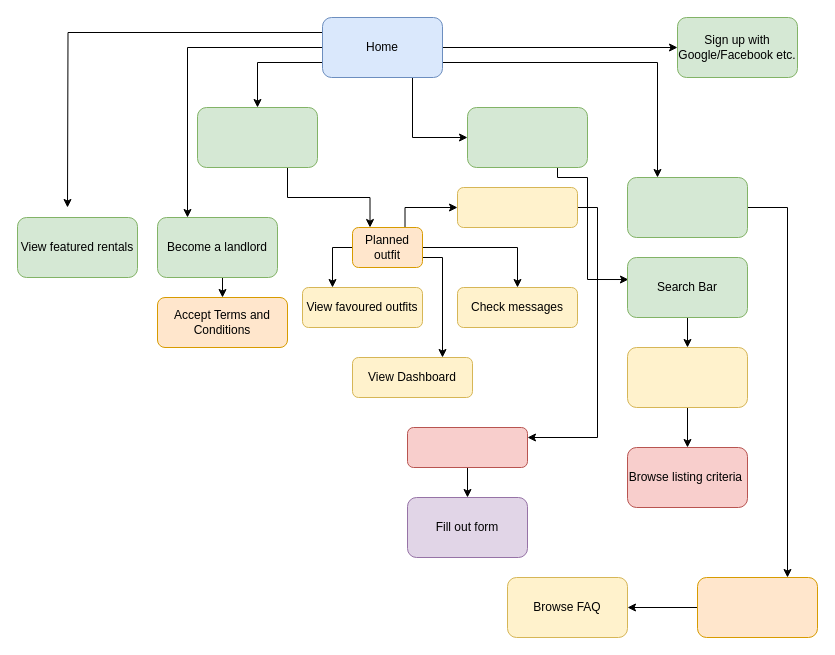
Image size: 835x655. Some labels were removed from this diagram. Here are the shapes that lost their labels. From the top down, the centre of each, then its label:
At pixel 257 137: "Login".
At pixel 527 137: "Where to?".
At pixel 517 207: "Profile".
At pixel 687 207: "Help".
At pixel 687 377: "Fill out drop down menu: dates, size, etc".
At pixel 467 447: "Edit information".
At pixel 757 607: "Form to ask question or select drop-down".
